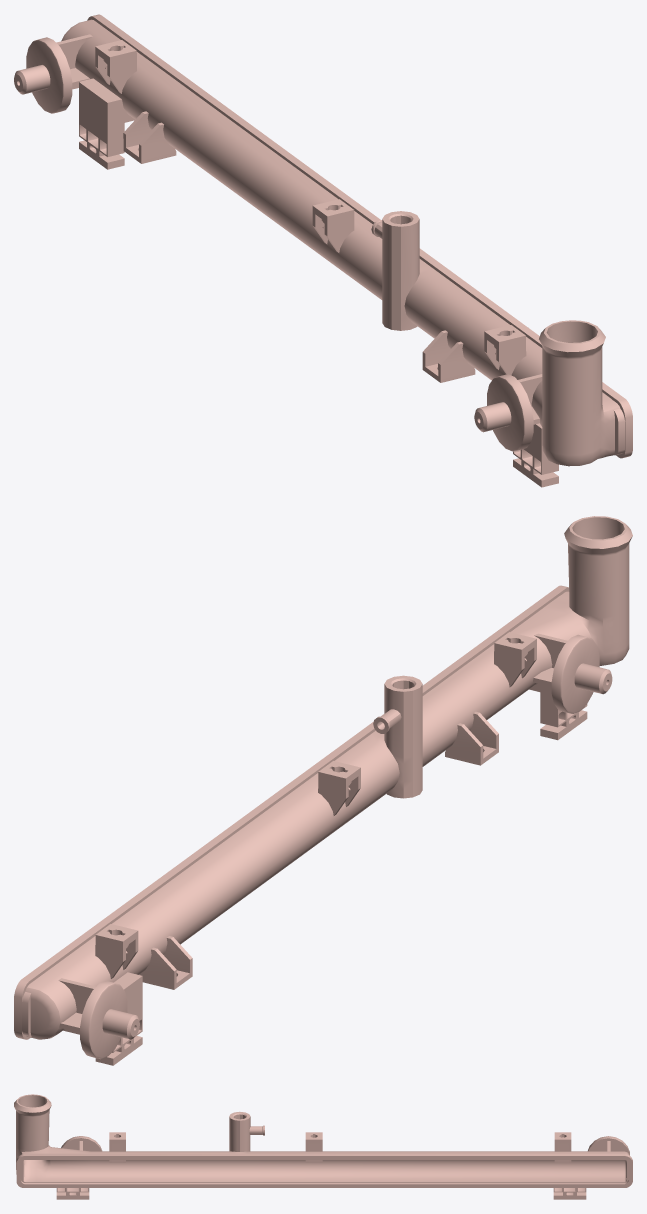
The model's file is I_PrepBC_Tank.001.fbx.
The picture shows the model from 3 angles, top to bottom: view 1: azimuth 30°, elevation 25°; view 2: azimuth 150°, elevation 25°; view 3: azimuth 270°, elevation 25°; orthographic projection. The views are drawn at different scales.
Visible parts, largest first — view 1: I_PrepBC_Tank.001; view 2: I_PrepBC_Tank.001; view 3: I_PrepBC_Tank.001.
Boxes of the visible parts, x1,y1,x2,y2 form: I_PrepBC_Tank.001: [14, 14, 632, 487]; I_PrepBC_Tank.001: [14, 516, 632, 1065]; I_PrepBC_Tank.001: [14, 1094, 632, 1199].
Size of the model in its own units: 6.68 by 11.03 by 64.24.
